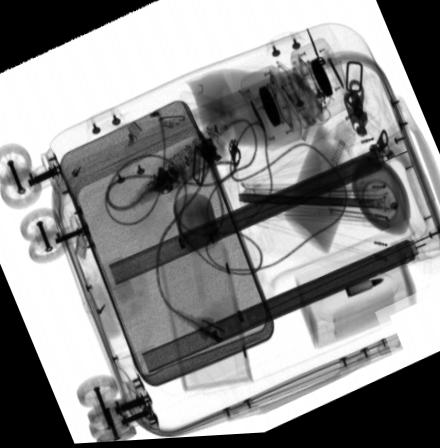Bullet: (343, 282, 384, 302)
